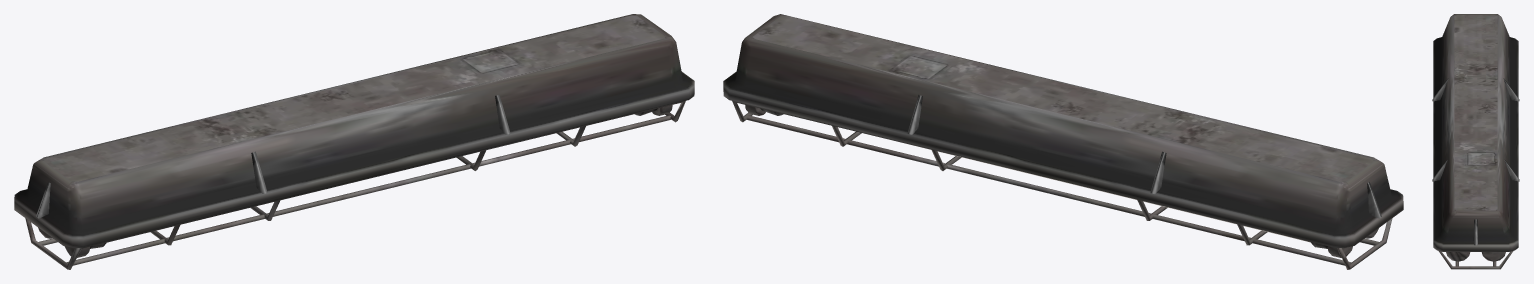
Rendered from plight.fluorescent_c.on.warm.glb.
The picture shows the model from 3 angles, left to right: view 1: azimuth 30°, elevation 25°; view 2: azimuth 150°, elevation 25°; view 3: azimuth 270°, elevation 25°; orthographic projection. The views are drawn at different scales.
Parts seen in each view (by area): view 1: plight.fluorescent_c.on.warm; view 2: plight.fluorescent_c.on.warm; view 3: plight.fluorescent_c.on.warm.
Boxes of the visible parts, bbox=[...] form: plight.fluorescent_c.on.warm: bbox=[14, 14, 694, 269]; plight.fluorescent_c.on.warm: bbox=[723, 14, 1403, 269]; plight.fluorescent_c.on.warm: bbox=[1432, 14, 1519, 269].
Size of the model in its own units: 1.47 by 0.1876 by 0.2604.
Materials: 1 (1 with a texture image).
